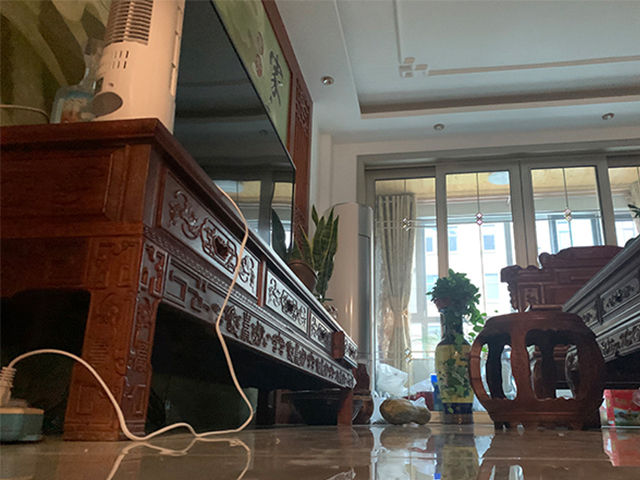cabinet: (1, 118, 360, 442)
curtain: (374, 192, 415, 370)
stool: (467, 307, 607, 432)
wire: (1, 183, 255, 442)
